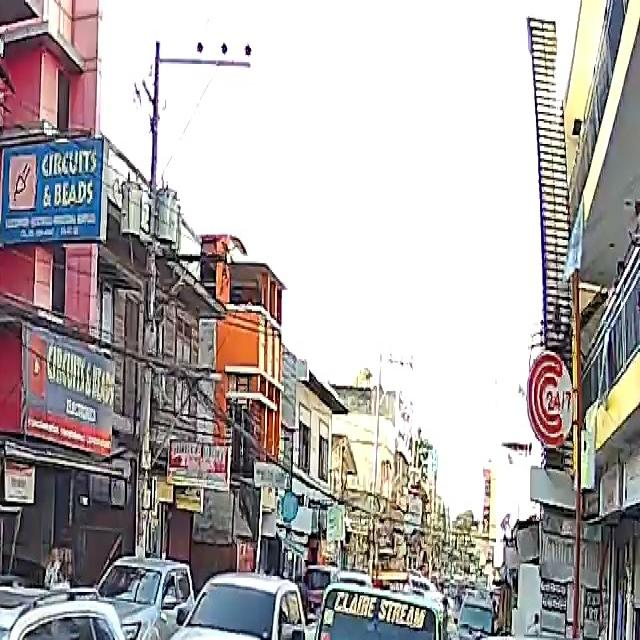car: (141, 574, 308, 640), (0, 578, 157, 640), (97, 556, 196, 638), (449, 634, 640, 640)
